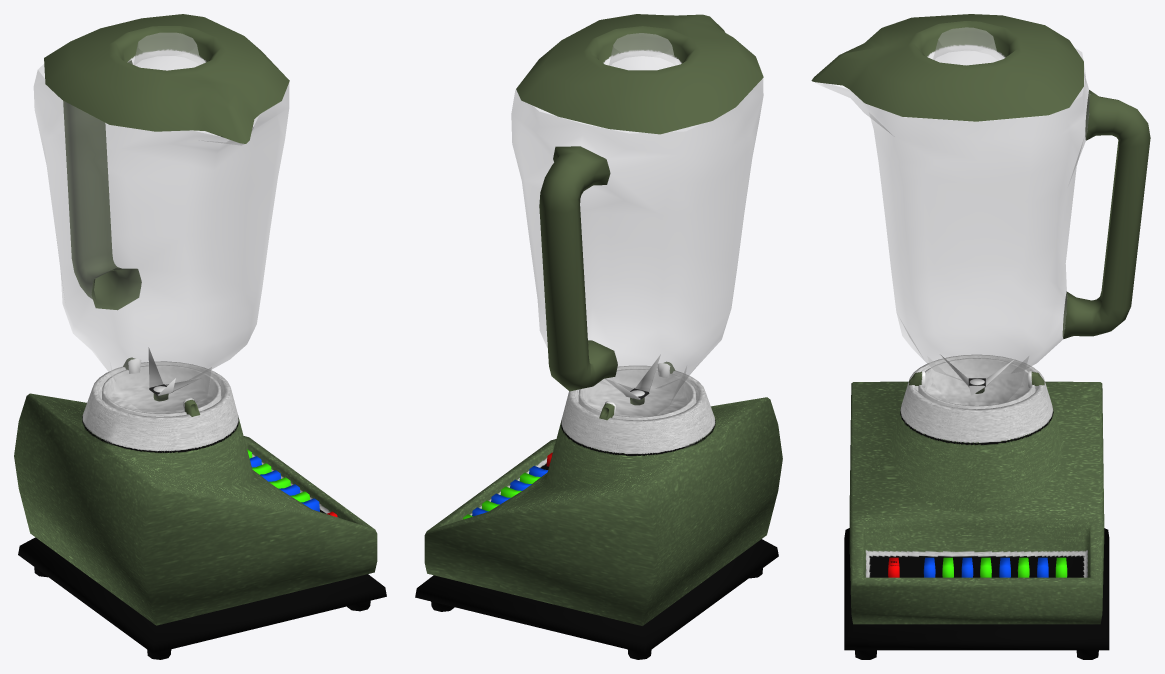
Rendered from blender.glb.
The picture shows the model from 3 angles, left to right: view 1: azimuth 30°, elevation 25°; view 2: azimuth 150°, elevation 25°; view 3: azimuth 270°, elevation 25°; orthographic projection.
Visible parts, largest first — view 1: blenderforunreal_15, blenderjar.001_12, blendercouvercle.001_9, blenderdown.001_10, blenderepine.001_11; view 2: blenderforunreal_15, blenderjar.001_12, blendercouvercle.001_9, blenderdown.001_10, blenderepine.001_11; view 3: blenderforunreal_15, blenderjar.001_12, blendercouvercle.001_9, blenderdown.001_10, blenderepine.001_11.
Boxes of the visible parts, <box> form: blenderforunreal_15: <box>14,361,377,625</box>; blenderjar.001_12: <box>34,56,288,411</box>; blendercouvercle.001_9: <box>44,14,289,143</box>; blenderdown.001_10: <box>18,537,386,653</box>; blenderepine.001_11: <box>148,347,200,401</box>; blenderforunreal_15: <box>424,365,782,625</box>; blenderjar.001_12: <box>511,56,763,416</box>; blendercouvercle.001_9: <box>516,14,763,134</box>; blenderdown.001_10: <box>415,539,778,653</box>; blenderepine.001_11: <box>605,354,660,405</box>; blenderforunreal_15: <box>849,354,1104,624</box>; blenderjar.001_12: <box>815,48,1150,402</box>; blendercouvercle.001_9: <box>811,14,1083,121</box>; blenderdown.001_10: <box>844,528,1109,650</box>; blenderepine.001_11: <box>940,354,1014,395</box>.
Bounding box in the file's own units: 2.22 × 4.6 × 2.58.
2 materials, 1 textured.
